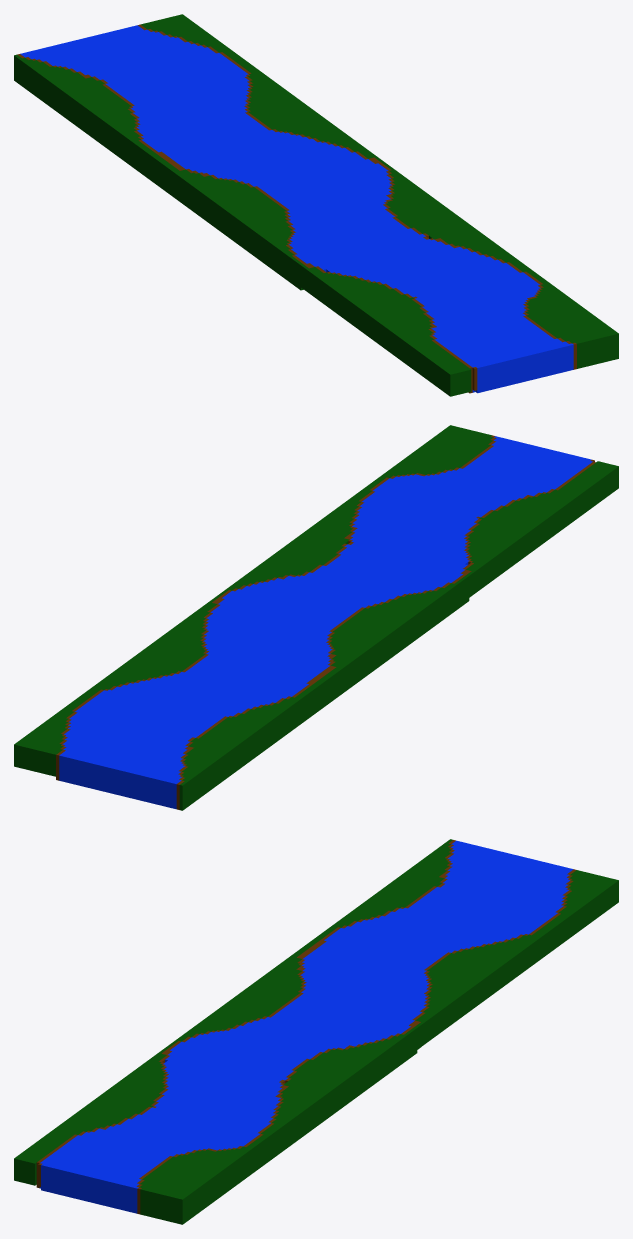
File: Lake.obj
The picture shows the model from 3 angles, top to bottom: view 1: azimuth 30°, elevation 25°; view 2: azimuth 150°, elevation 25°; view 3: azimuth 330°, elevation 25°; orthographic projection.
Bounding box in the file's own units: 5.6 × 0.8 × 25.1.
1 material, 1 textured.
